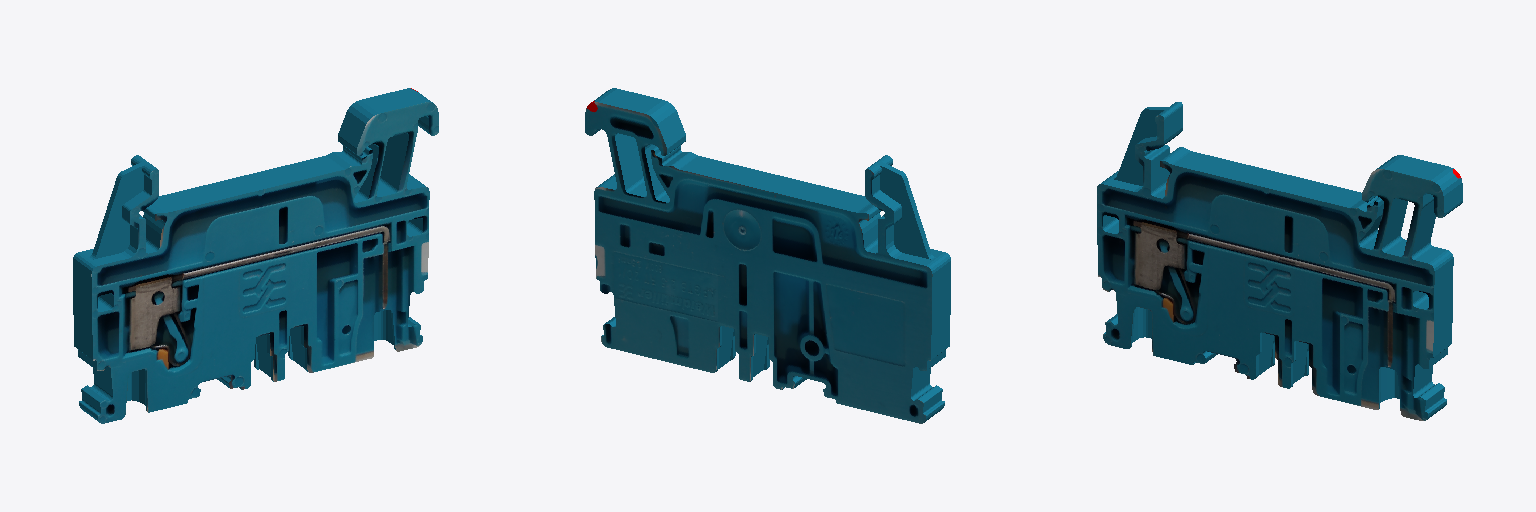
3 renders of one model, left to right at view 1: azimuth 30°, elevation 25°; view 2: azimuth 150°, elevation 25°; view 3: azimuth 330°, elevation 25°, orthographic.
Visible parts, largest first — view 1: [number redacted]_[number redacted].009; view 2: [number redacted]_[number redacted].009; view 3: [number redacted]_[number redacted].009.
Part boxes in pixels (left/top/right/bottom): [number redacted]_[number redacted].009: left=73, top=88, right=438, bottom=423; [number redacted]_[number redacted].009: left=585, top=88, right=950, bottom=423; [number redacted]_[number redacted].009: left=1097, top=102, right=1462, bottom=420.
Size of the model in its own units: 0.0542 by 0.0362 by 0.0051.
Materials: 1 (1 with a texture image).